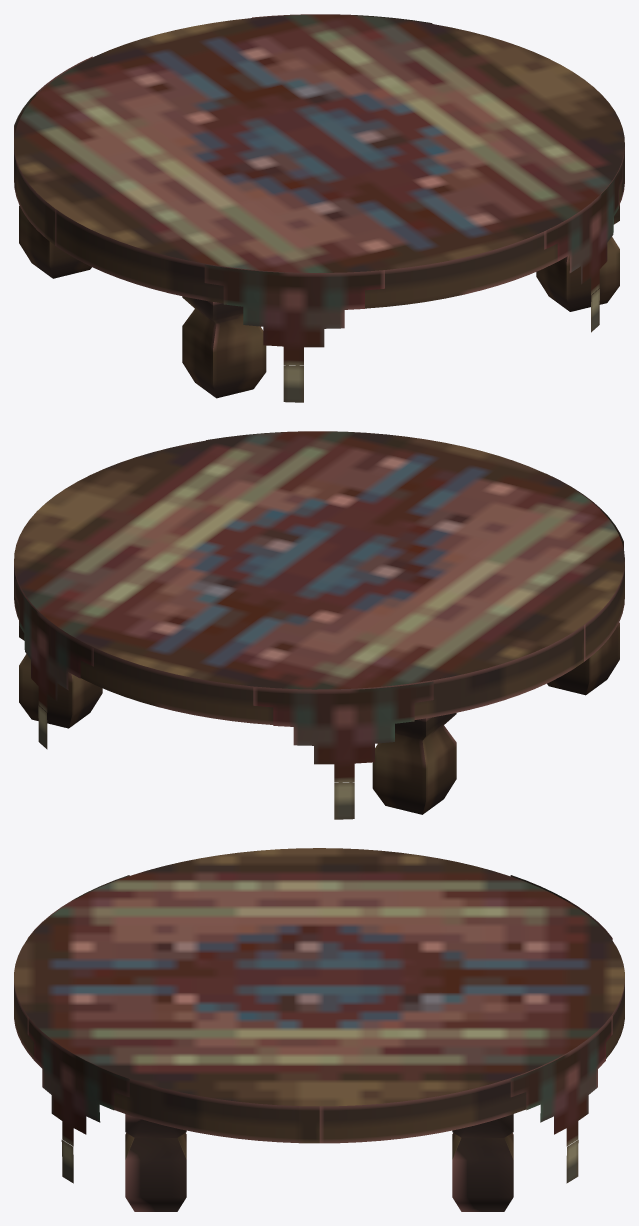
Rendered from ObjMD_Desert_Table_A.FBX.
3 renders of one model, top to bottom at view 1: azimuth 30°, elevation 25°; view 2: azimuth 150°, elevation 25°; view 3: azimuth 270°, elevation 25°, orthographic.
Parts seen in each view (by area): view 1: ObjMD_Desert_Table_A; view 2: ObjMD_Desert_Table_A; view 3: ObjMD_Desert_Table_A.
Boxes of the visible parts, <box> form: ObjMD_Desert_Table_A: <box>14,14,624,402</box>; ObjMD_Desert_Table_A: <box>14,431,624,819</box>; ObjMD_Desert_Table_A: <box>14,848,624,1211</box>.
Bounding box in the file's own units: 187 × 47 × 187.
